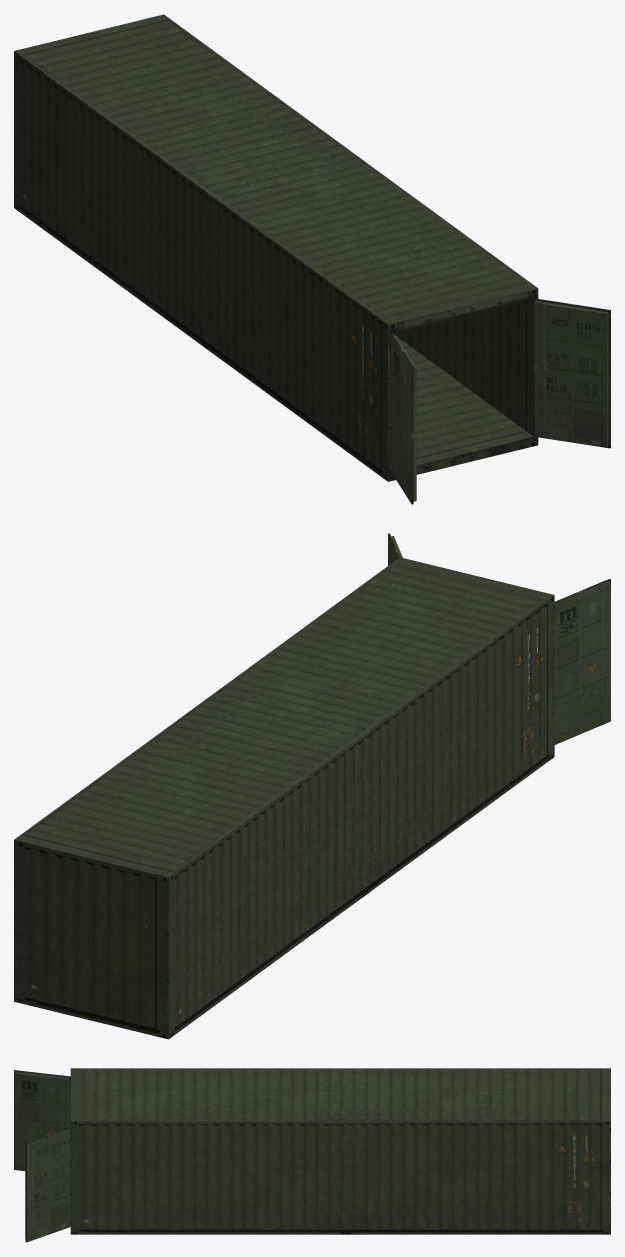
The model's file is shipping_container_mx_1_hollow_1_1.dae.
The picture shows the model from 3 angles, top to bottom: view 1: azimuth 30°, elevation 25°; view 2: azimuth 150°, elevation 25°; view 3: azimuth 270°, elevation 25°; orthographic projection. The views are drawn at different scales.
Visible parts, largest first — view 1: shipping_container_mx_1_hollow_1_1; view 2: shipping_container_mx_1_hollow_1_1; view 3: shipping_container_mx_1_hollow_1_1.
Part boxes in pixels (x1=…): shipping_container_mx_1_hollow_1_1: x1=14, y1=14, x2=610, y2=504; shipping_container_mx_1_hollow_1_1: x1=14, y1=533, x2=610, y2=1039; shipping_container_mx_1_hollow_1_1: x1=14, y1=1068, x2=610, y2=1242.
Bounding box in the file's own units: 3.46 × 11.94 × 2.5.
Materials: 1 (1 with a texture image).
